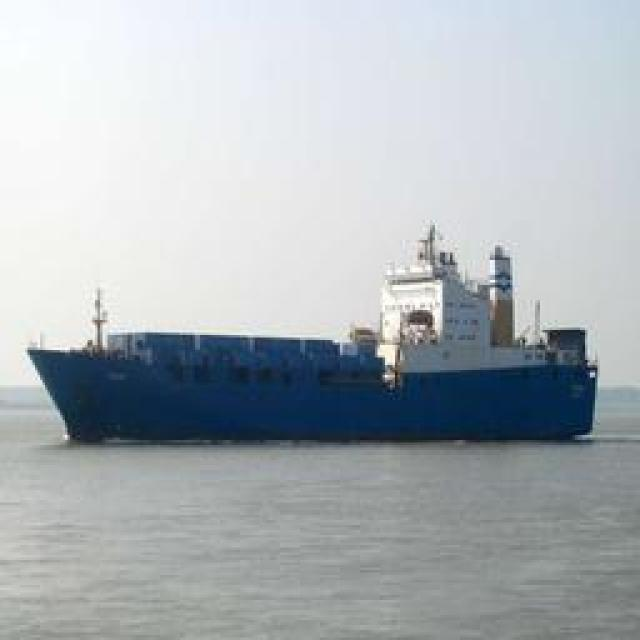ship2: (26, 220, 600, 448)
